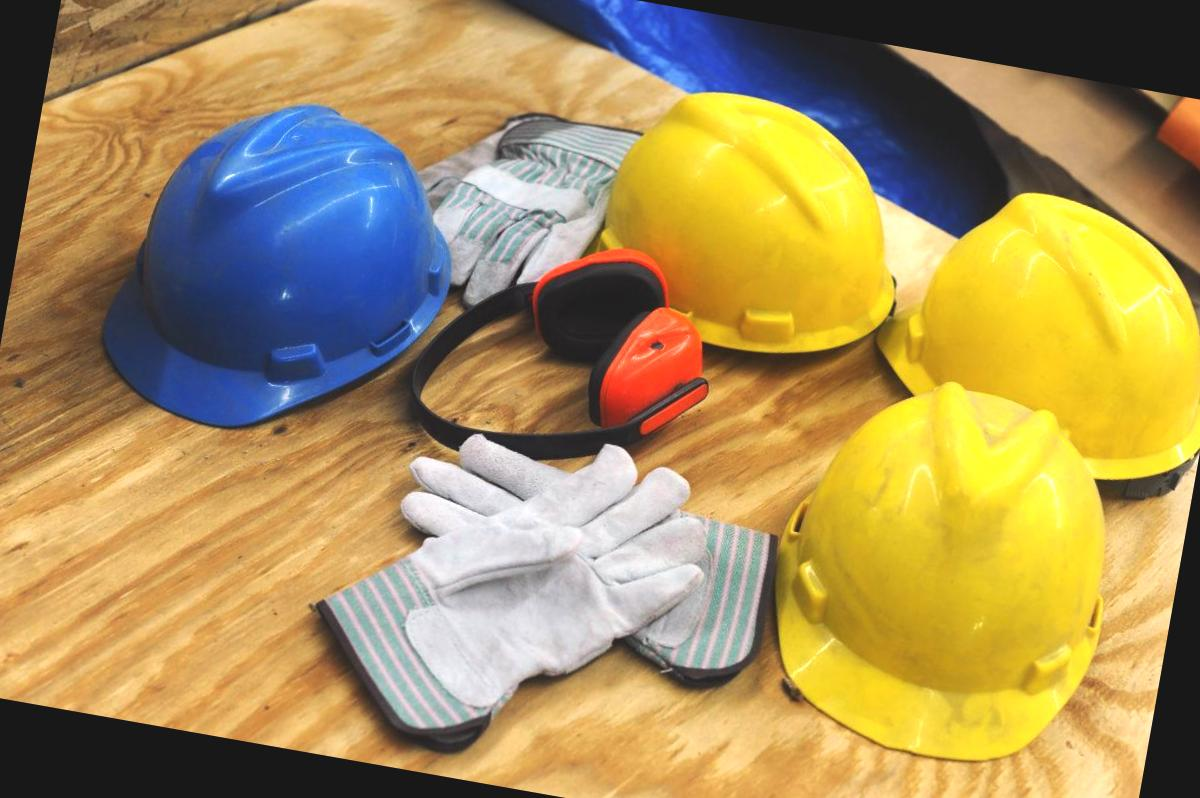helmet: (736, 361, 1143, 788), (76, 71, 484, 468), (859, 173, 1200, 507), (579, 69, 926, 388)
